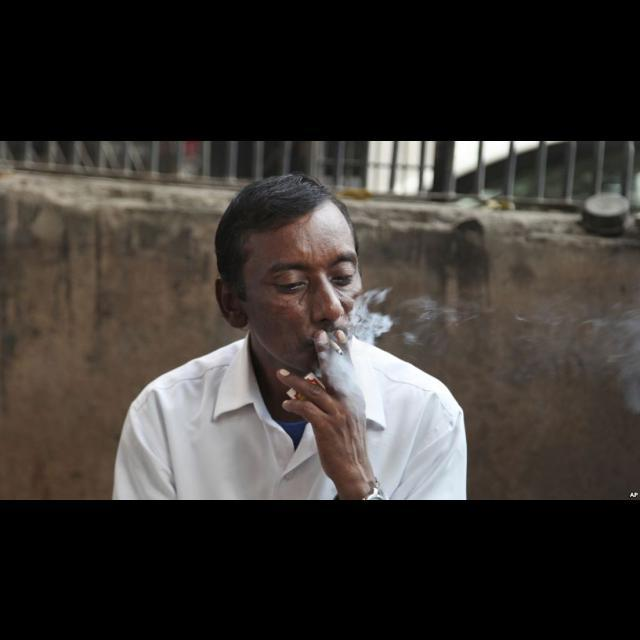rokok: (326, 336, 346, 354)
